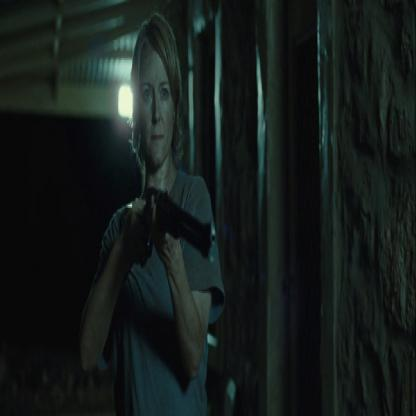Gun: (133, 178, 217, 288)
